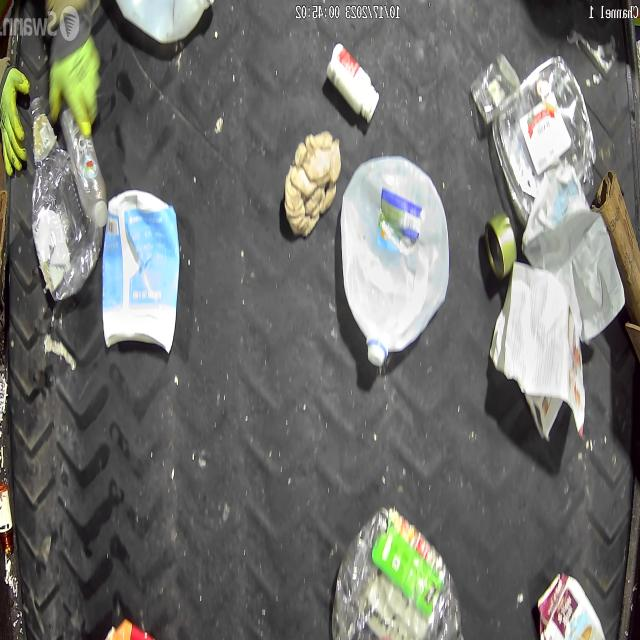can: (482, 213, 514, 281)
milk_jug: (340, 152, 450, 370), (107, 0, 218, 41)
non_white_jug: (538, 570, 607, 640)
plastic_bottle: (28, 95, 104, 303), (61, 107, 108, 226)
